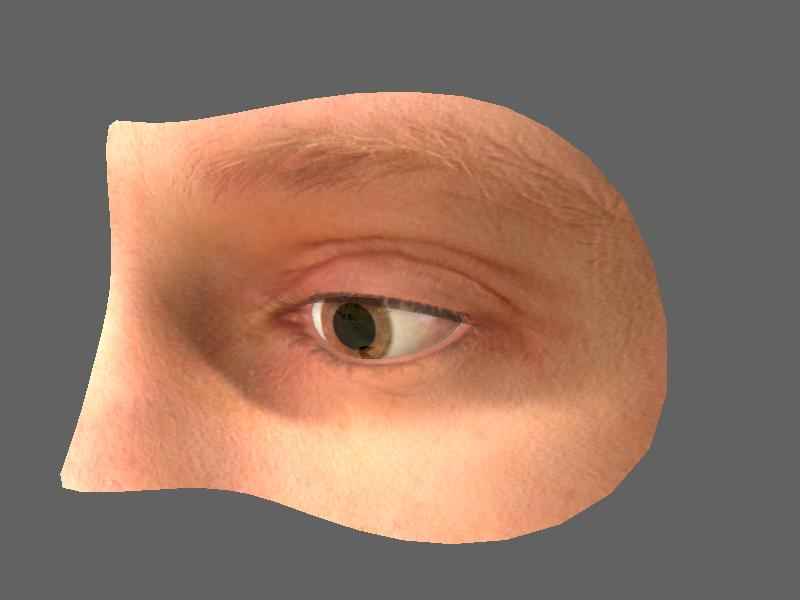iris: (314, 293, 403, 363)
